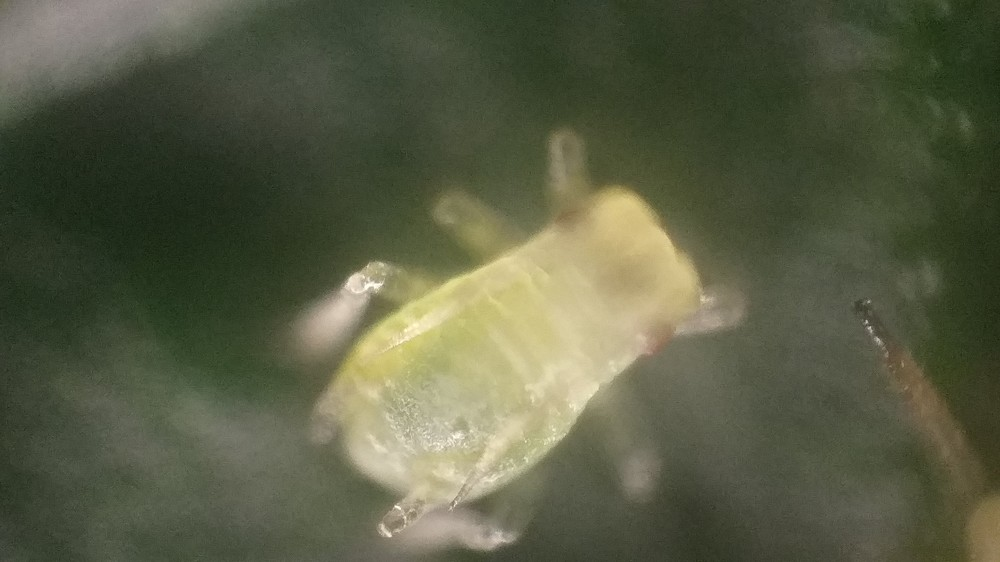Pulgon: (263, 116, 772, 559)
